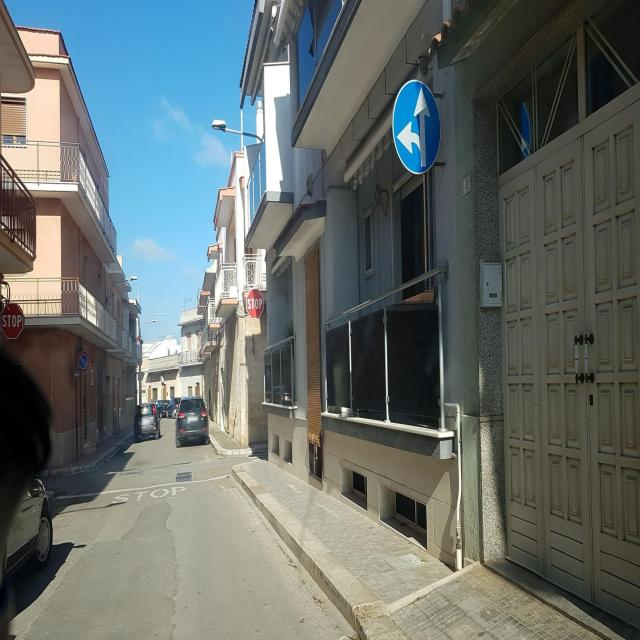forb_stopping: (77, 351, 90, 372)
